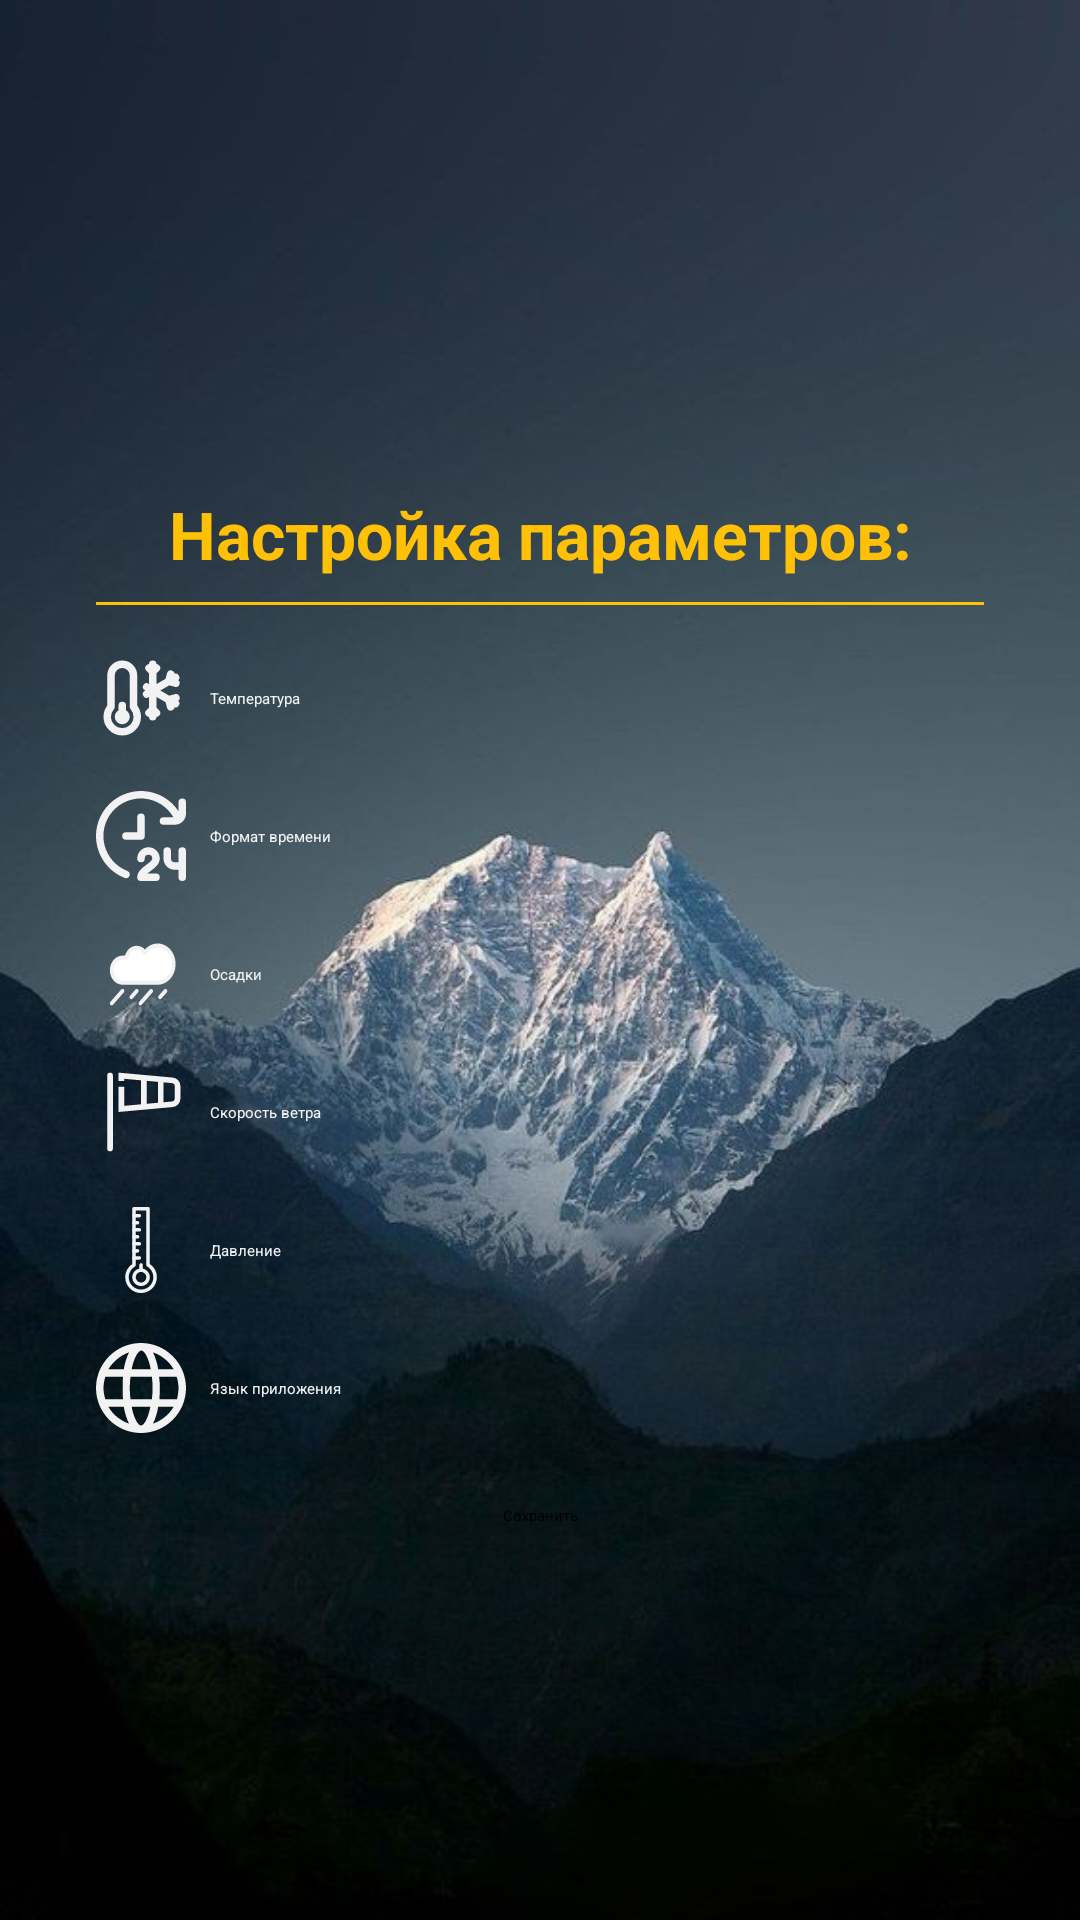

Icons on this 1080 x 1920 Android screen, each with the point to tap as (x=x, y=y):
time: (x=141, y=836)
wind: (x=144, y=1112)
